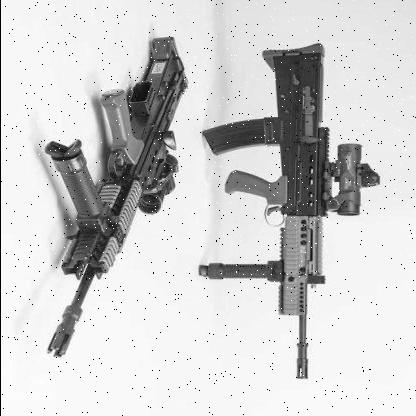rifle: (190, 20, 388, 402), (31, 27, 197, 375)
